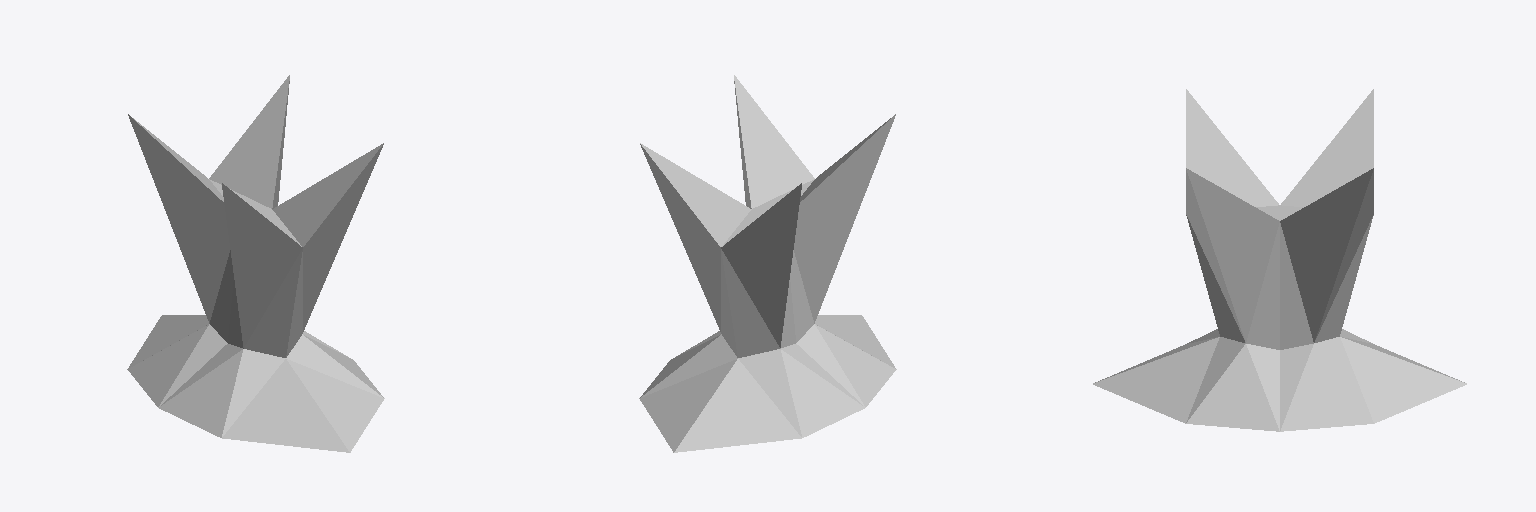
File: Level1_shrub.obj
3 renders of one model, left to right at view 1: azimuth 30°, elevation 25°; view 2: azimuth 150°, elevation 25°; view 3: azimuth 270°, elevation 25°, orthographic.
Parts seen in each view (by area): view 1: Shrub; view 2: Shrub; view 3: Shrub.
Part boxes in pixels (x1,y1,x2,y2): Shrub: (127, 75, 384, 452); Shrub: (639, 75, 896, 452); Shrub: (1093, 89, 1466, 431).
Size of the model in its own units: 2.4 by 3 by 4.